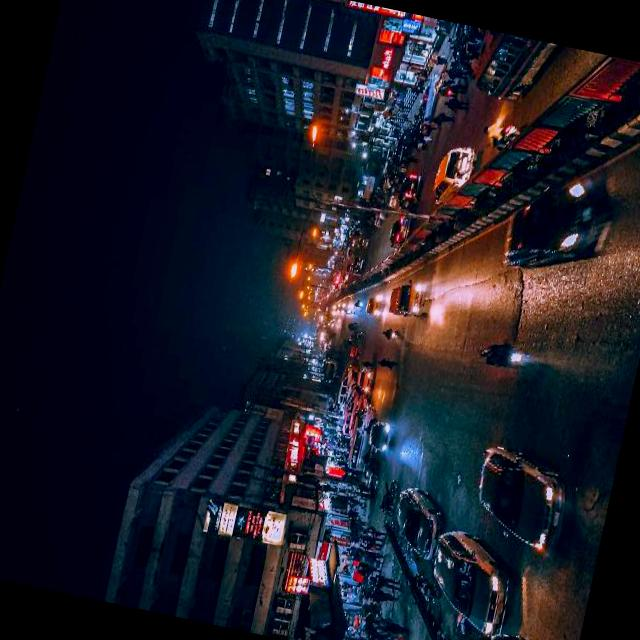bus: (466, 27, 564, 110)
car: (465, 437, 581, 554), (416, 517, 528, 637), (494, 165, 600, 283), (425, 136, 486, 212), (393, 166, 425, 212), (362, 416, 400, 452), (383, 211, 415, 249), (353, 360, 380, 390), (362, 288, 388, 318)
motorcycle: (474, 334, 536, 372), (476, 115, 526, 154), (400, 562, 444, 603), (376, 473, 402, 517), (378, 320, 406, 343)
truck: (384, 272, 434, 322)
